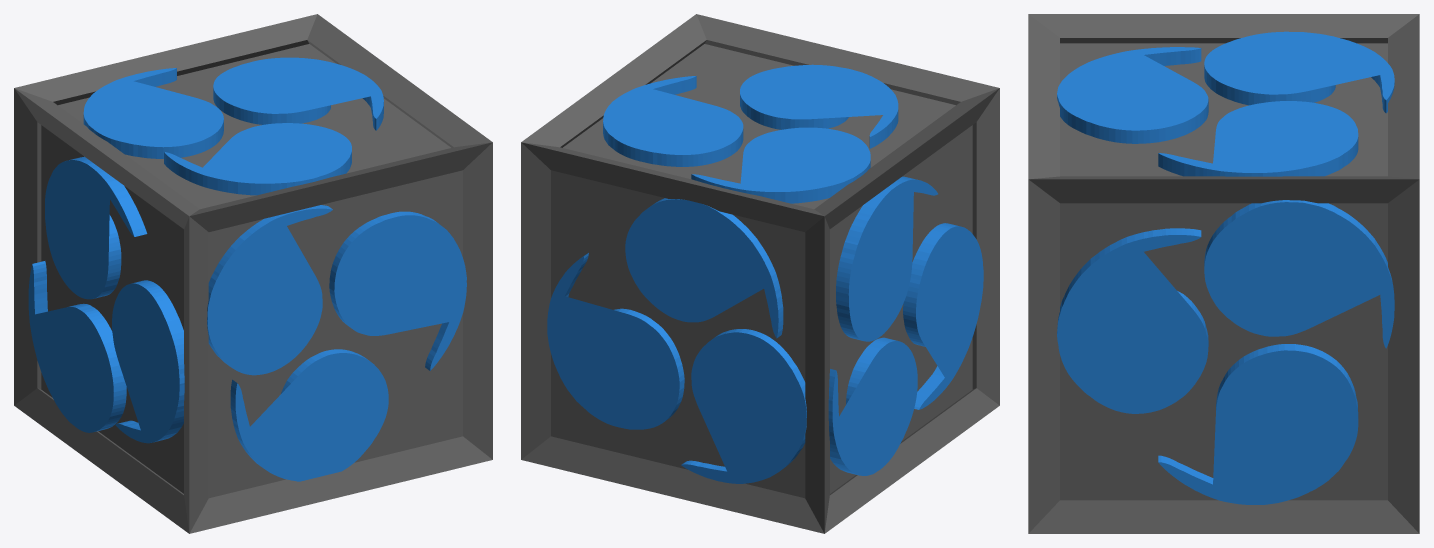
The model's file is wind_square.fbx.
The picture shows the model from 3 angles, left to right: view 1: azimuth 30°, elevation 25°; view 2: azimuth 150°, elevation 25°; view 3: azimuth 270°, elevation 25°; orthographic projection. The views are drawn at different scales.
Visible parts, largest first — view 1: çerçeve, Plane.005, Plane.003, Plane.002; view 2: çerçeve, Plane.006, Plane.003, Plane.002; view 3: çerçeve, Plane.001, Plane.002.
Part boxes in pixels (bbox=[...]): çerçeve: bbox=[14, 14, 492, 533]; Plane.005: bbox=[207, 205, 466, 481]; Plane.003: bbox=[28, 156, 184, 443]; Plane.002: bbox=[83, 57, 383, 195]; çerçeve: bbox=[521, 14, 999, 533]; Plane.006: bbox=[547, 198, 806, 483]; Plane.003: bbox=[828, 176, 983, 475]; Plane.002: bbox=[603, 64, 898, 203]; çerçeve: bbox=[1028, 14, 1419, 533]; Plane.001: bbox=[1057, 200, 1394, 504]; Plane.002: bbox=[1057, 31, 1394, 176].
Bounding box in the file's own units: 570 × 570 × 570.
